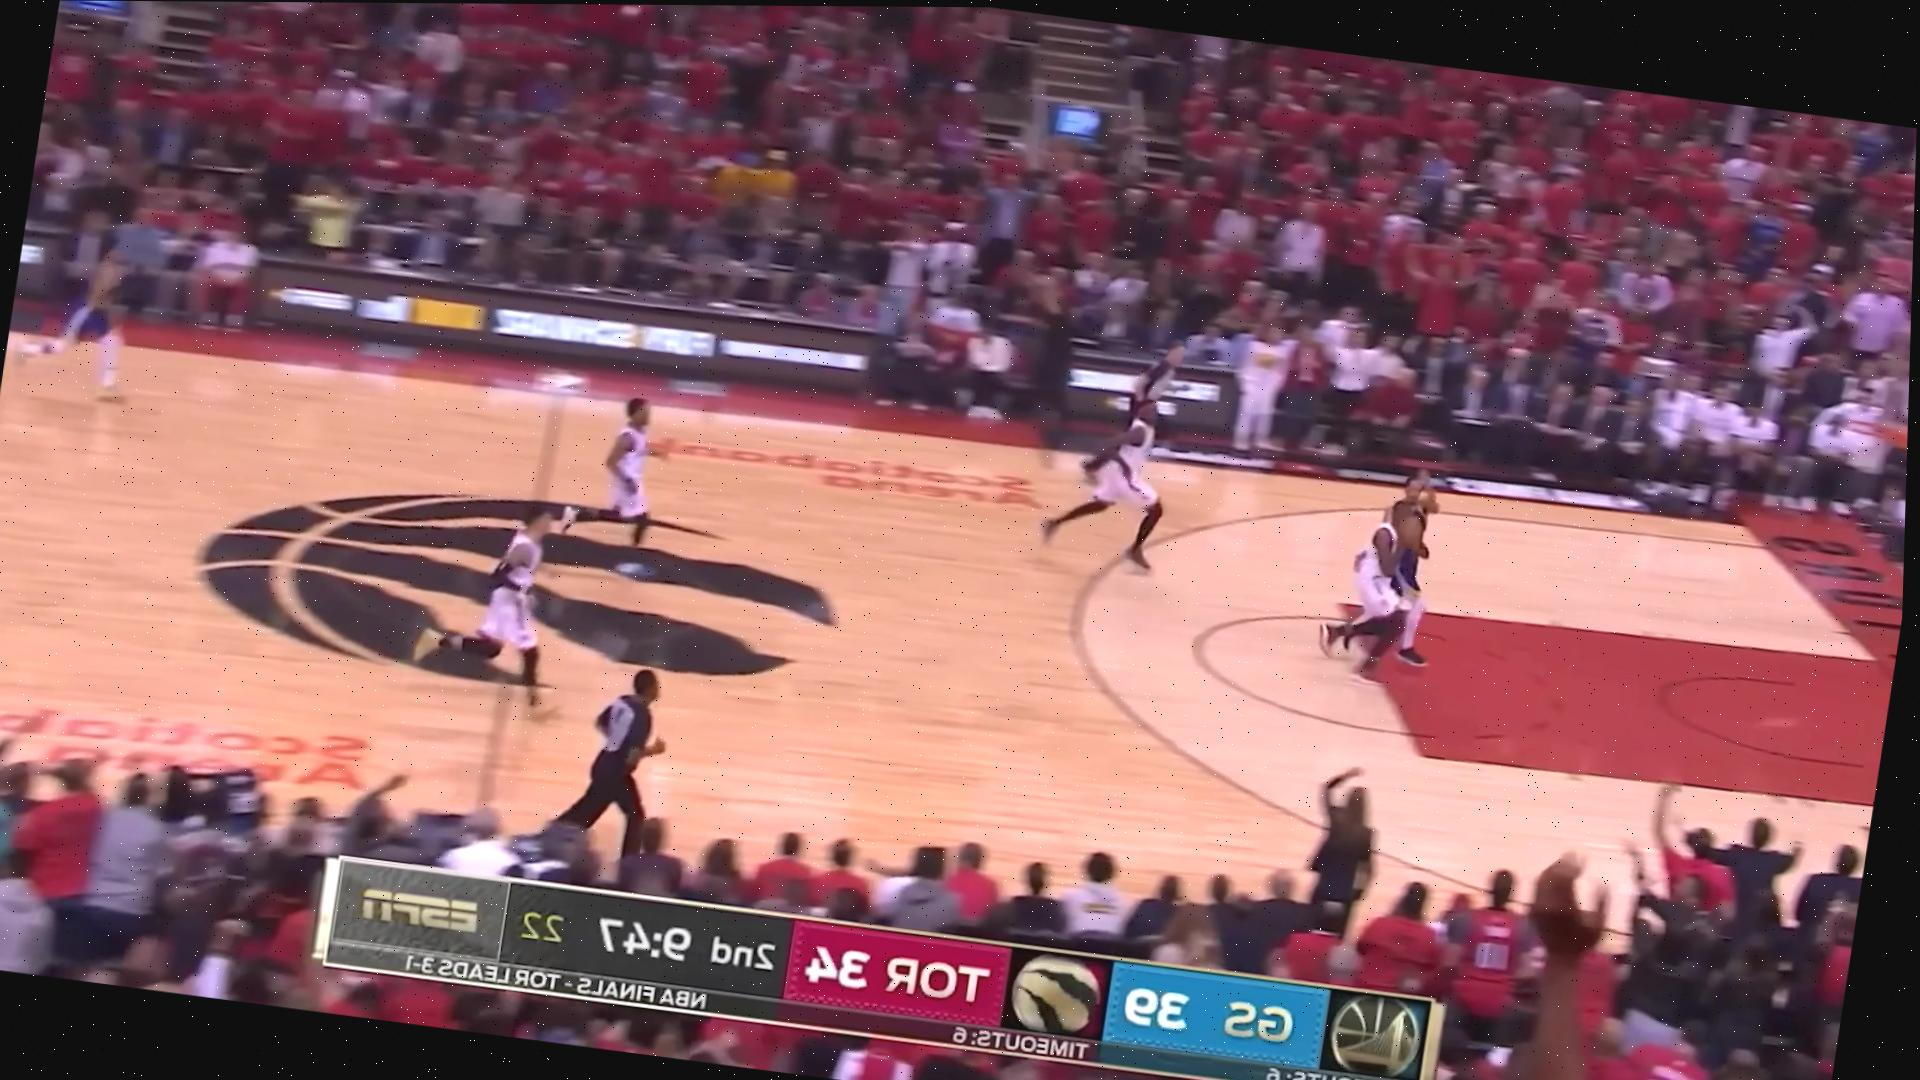foul: (1287, 458, 1478, 695)
